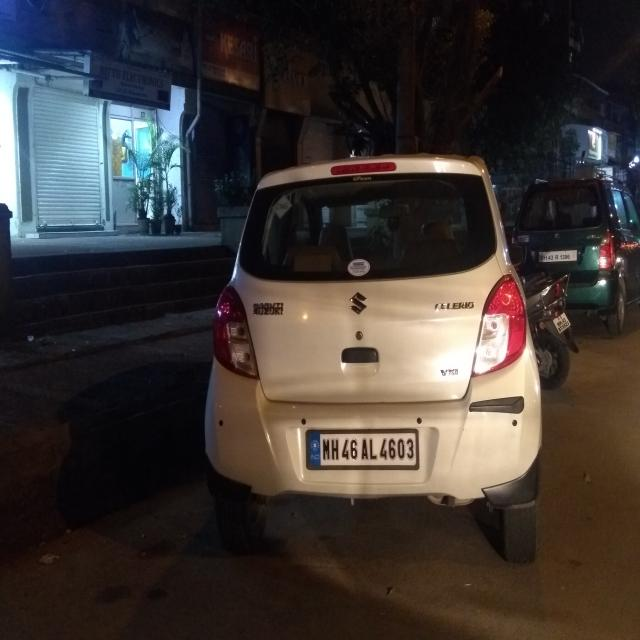Number-Plate: (312, 431, 416, 468)
